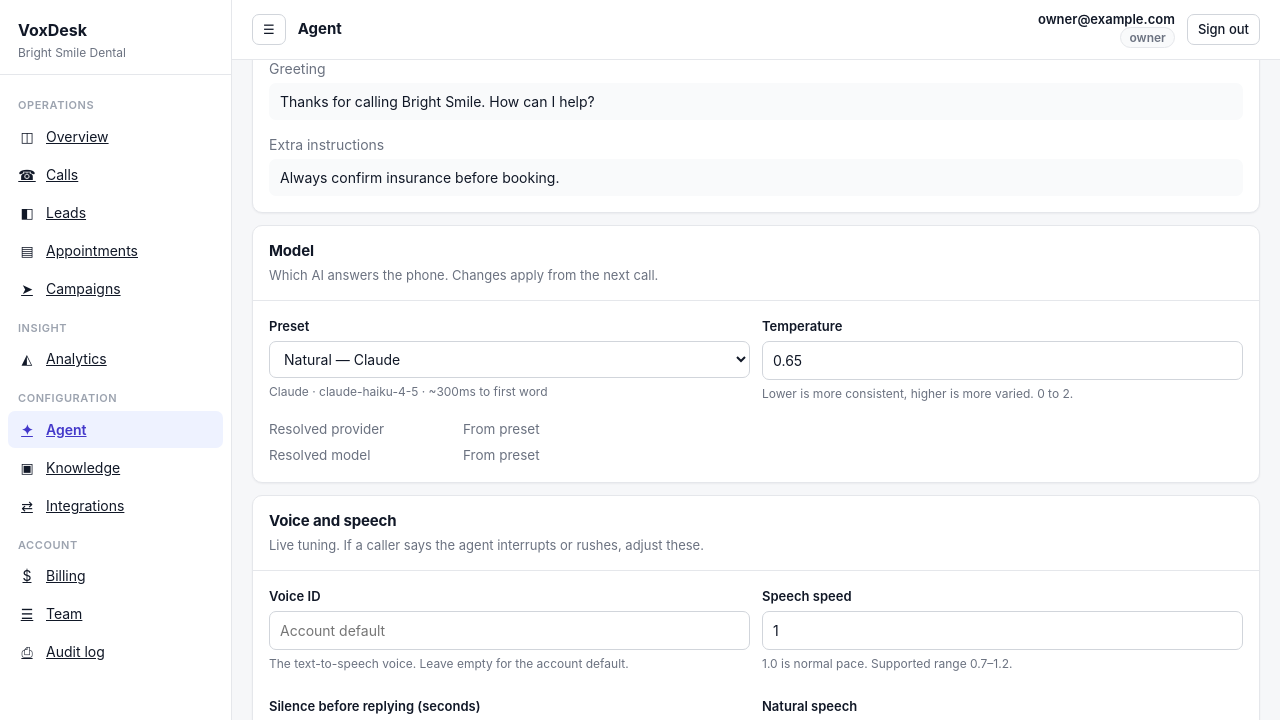
Test: saving › discards edits back to the server copy
(page scrolled)
Replace the text in the number field labelled "Temperature" with "1.5" at (1002, 360), box [762,341,1243,380]
(page scrolled)
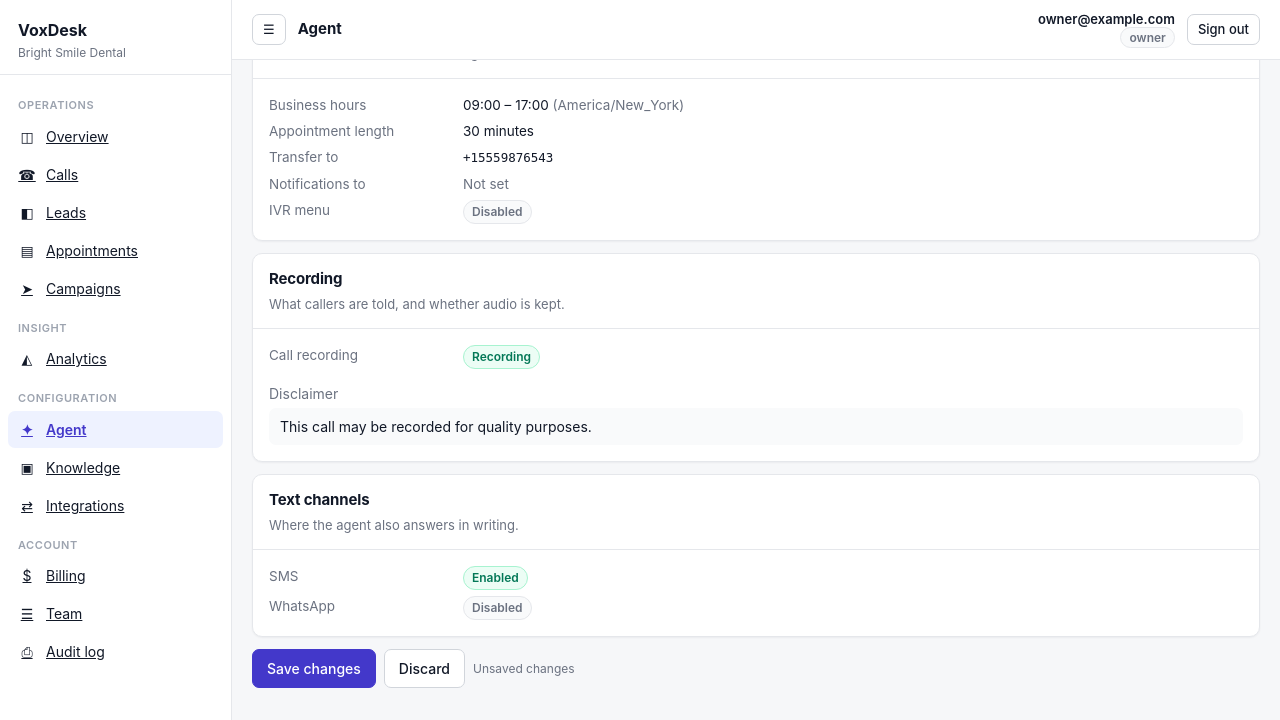
Expected: the text "Unsaved changes" is shown, [473,660,575,678]
Click the button "Discard" at (424, 668), box [384,649,465,688]
(page scrolled)
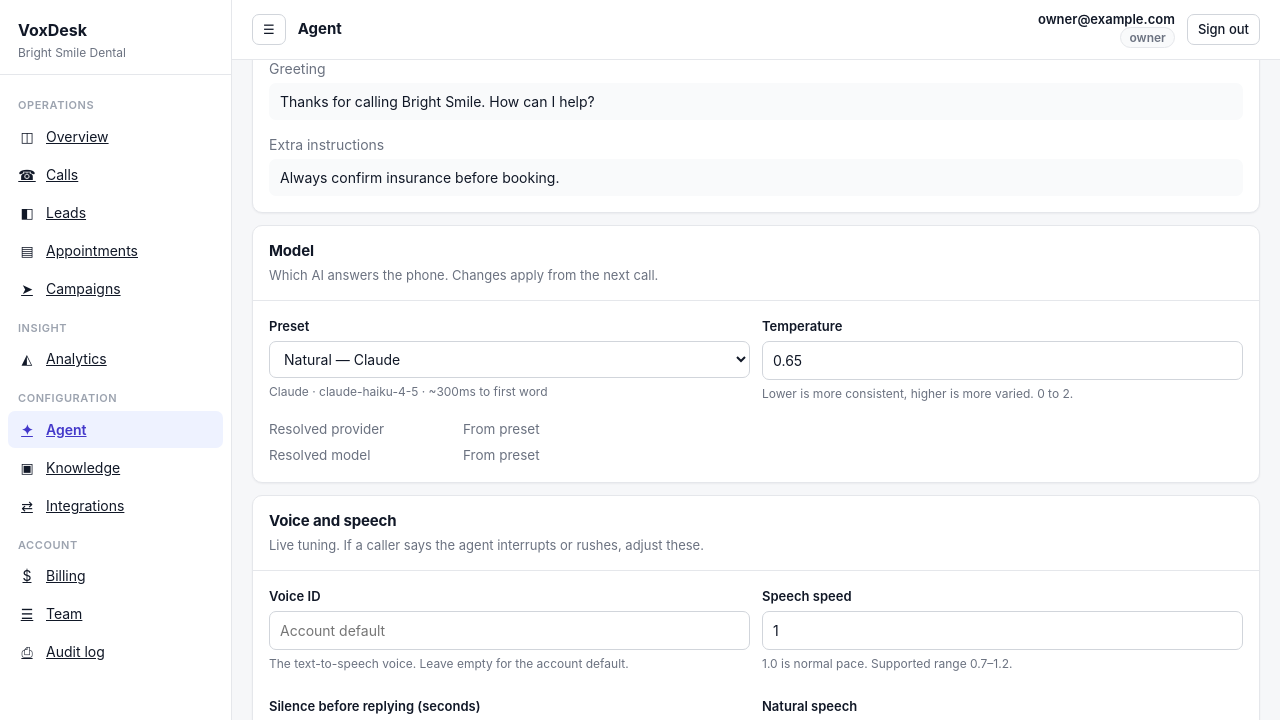
Expected: the number field labelled "Temperature" holds "0.65", [762,341,1243,380]
